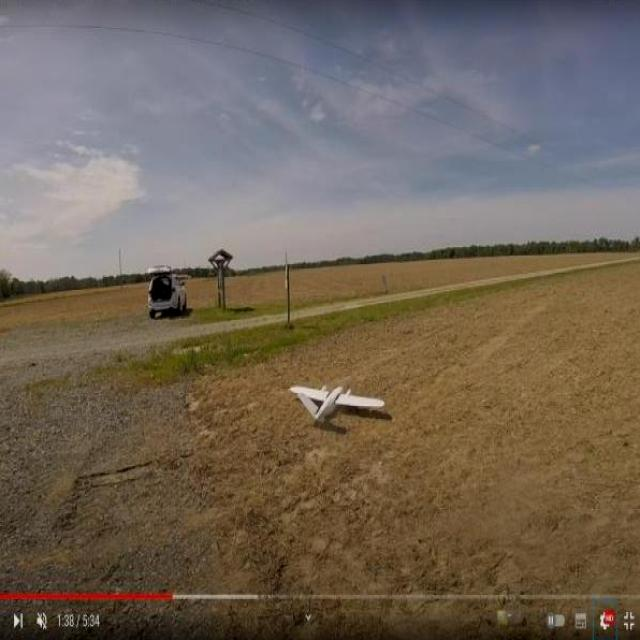plane: (286, 380, 384, 426)
